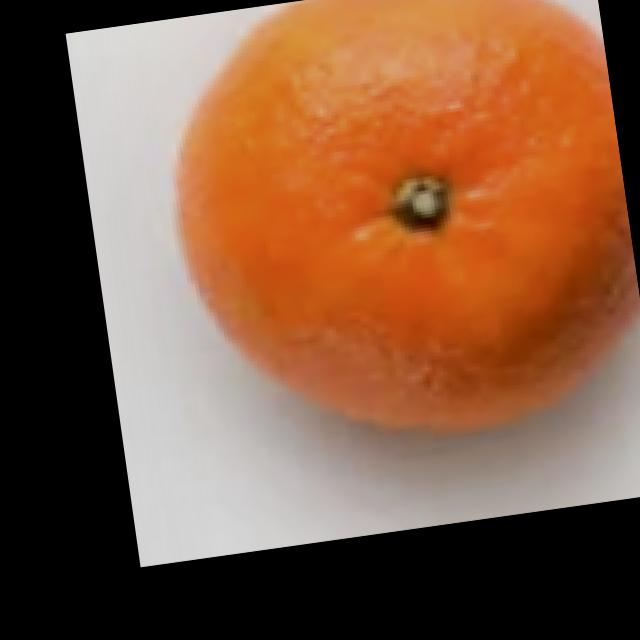orange: (137, 0, 640, 473)
